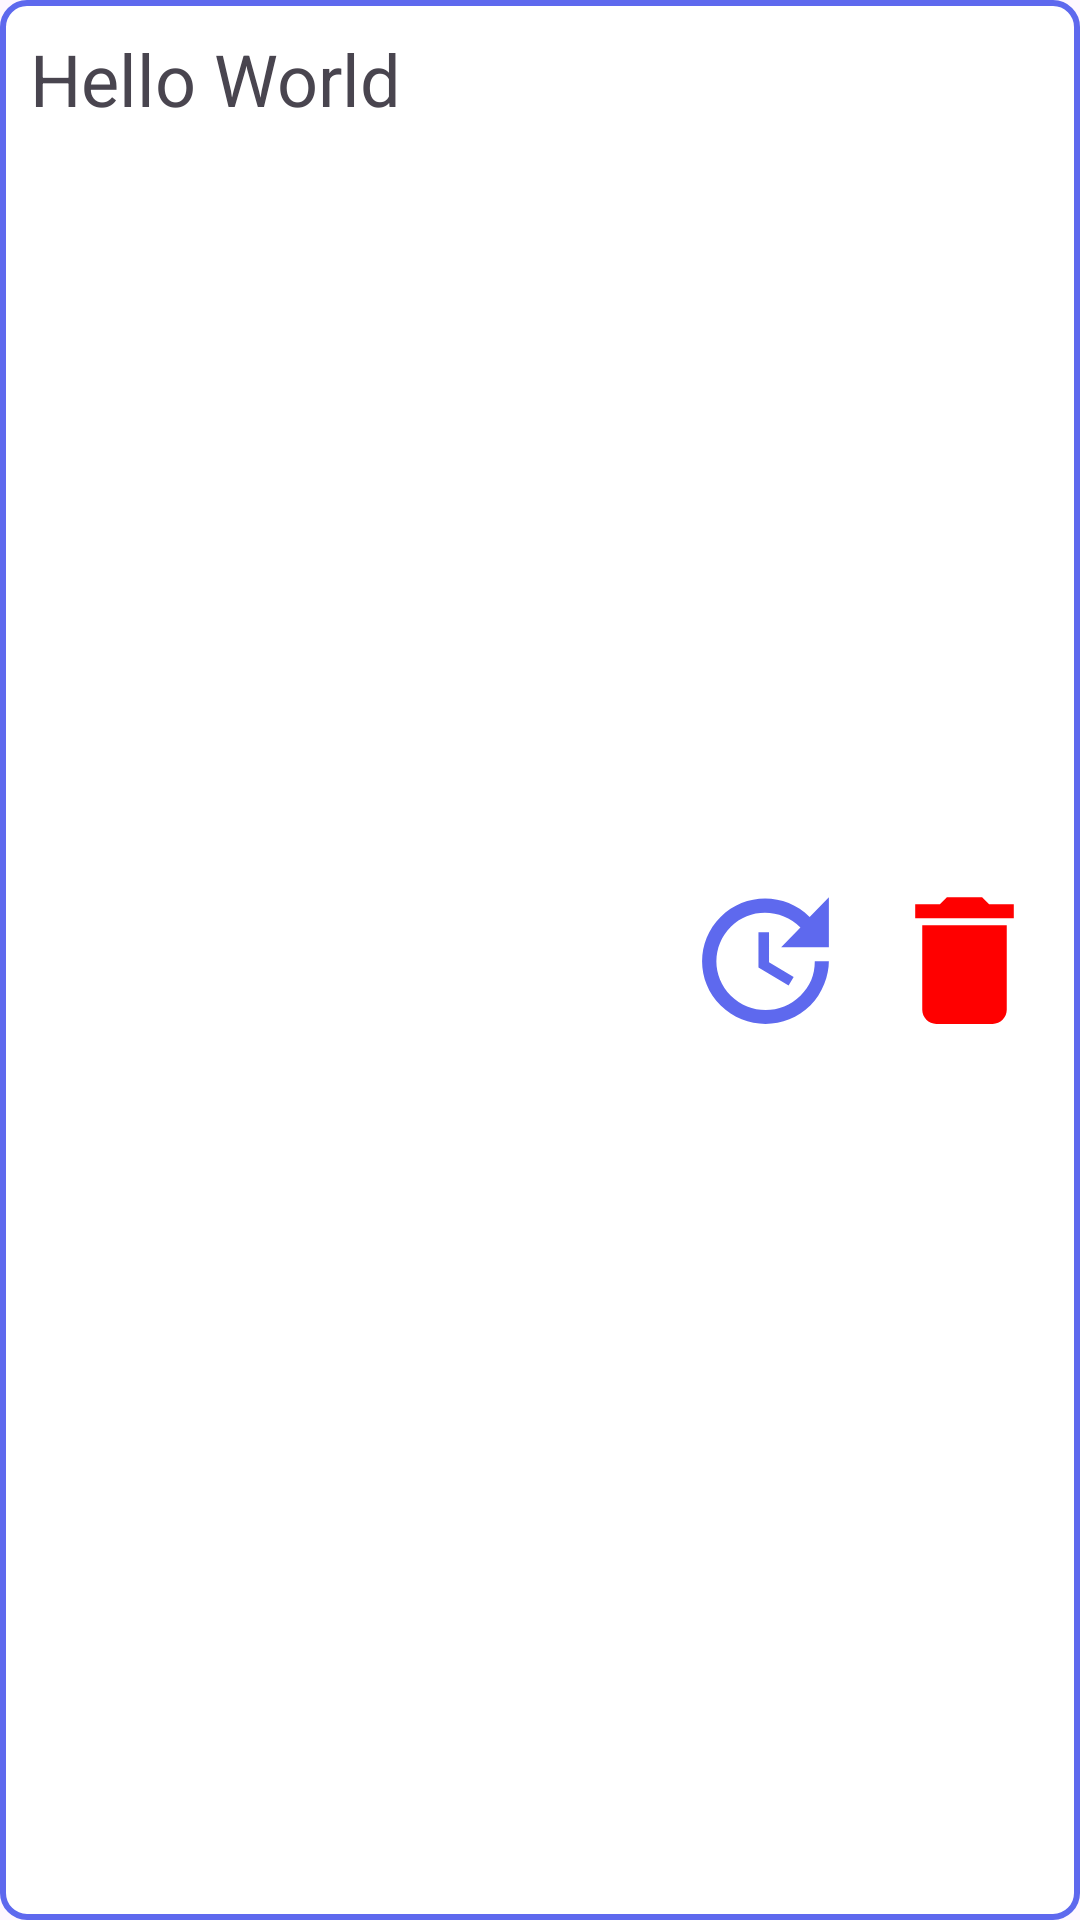

Icon click points for this 1080px x 1920px phone screenshot, format [x,y]:
delete: [964,960]
update: [765,960]
